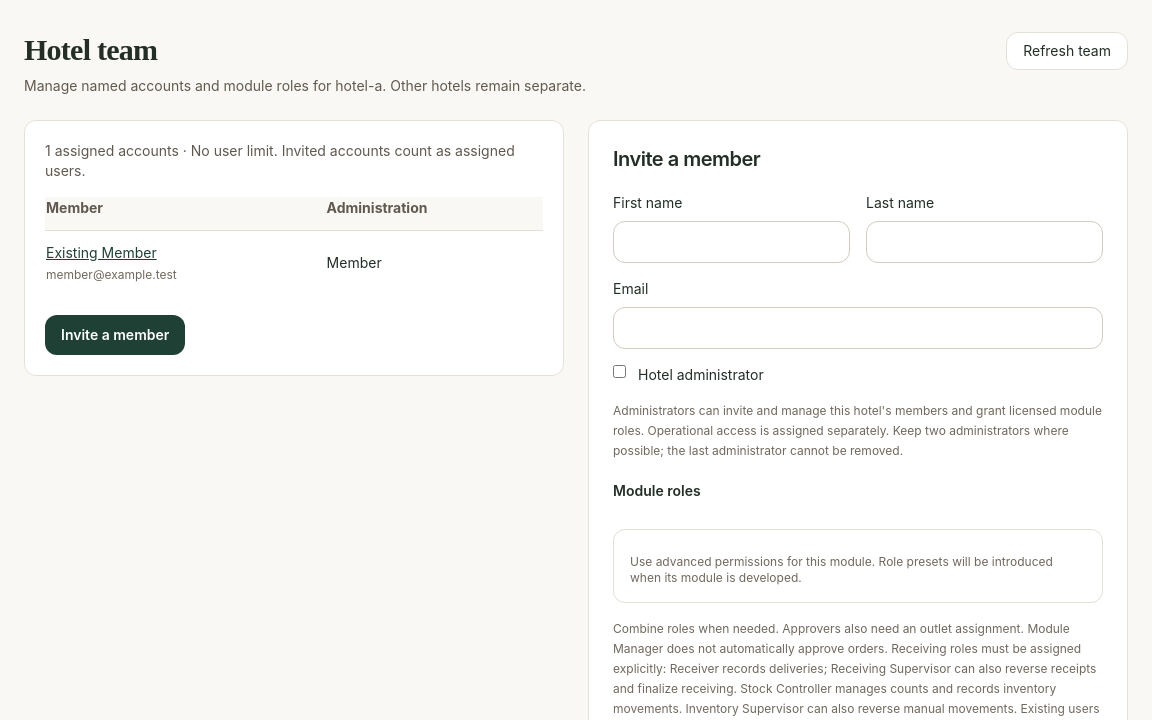
Test: removes a stale team and editor when refreshing fails
Click the button "Existing Member": (101, 253) [46,243,157,263]
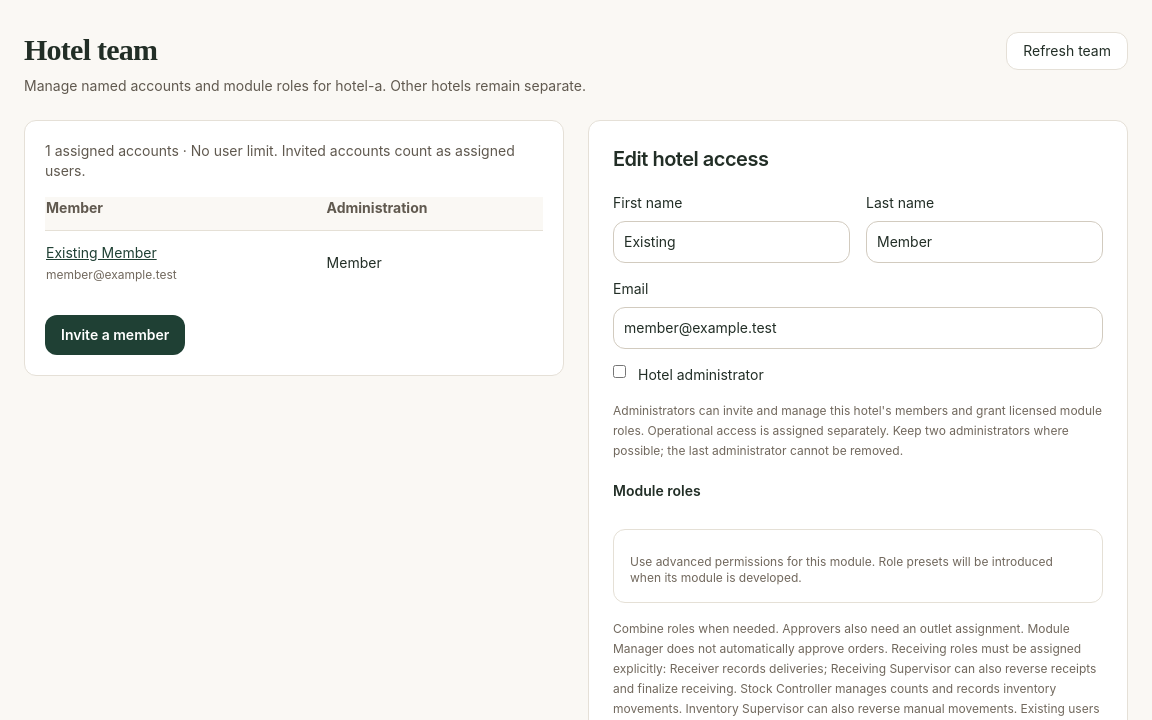
Click the button "Refresh team": (1067, 51) [1006,32,1128,70]
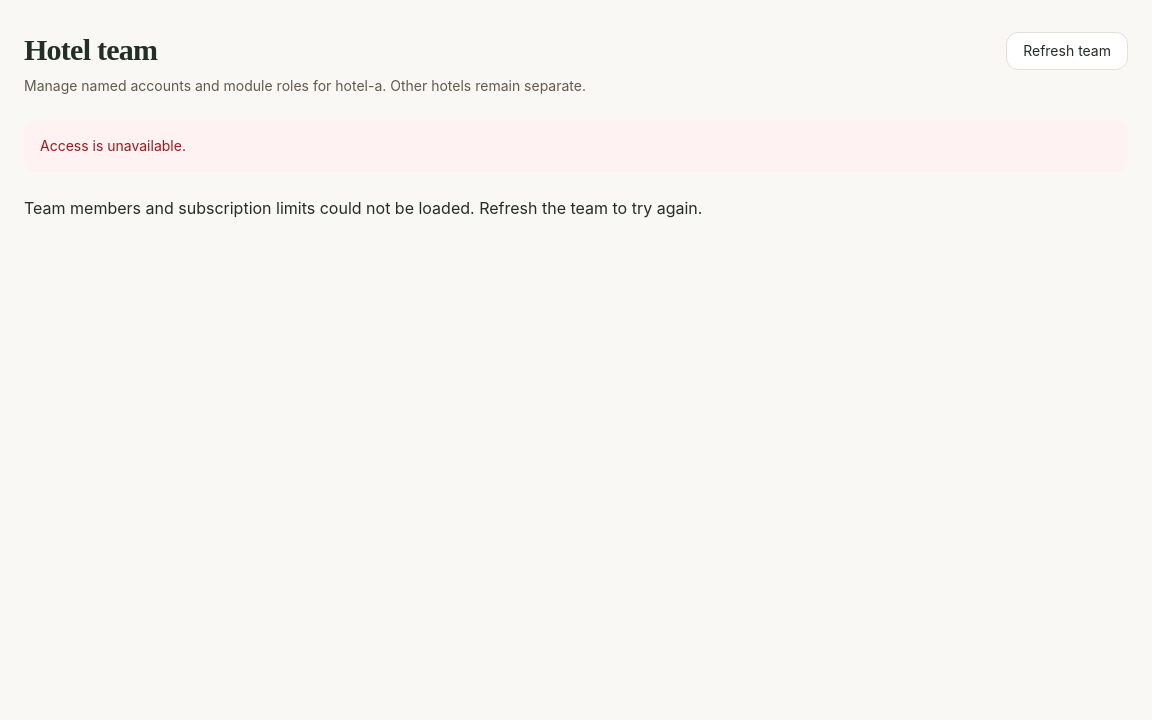
Result: the message "Access is unavailable." is shown at [24,120,1128,172]
Result: the button "Existing Member" is gone
